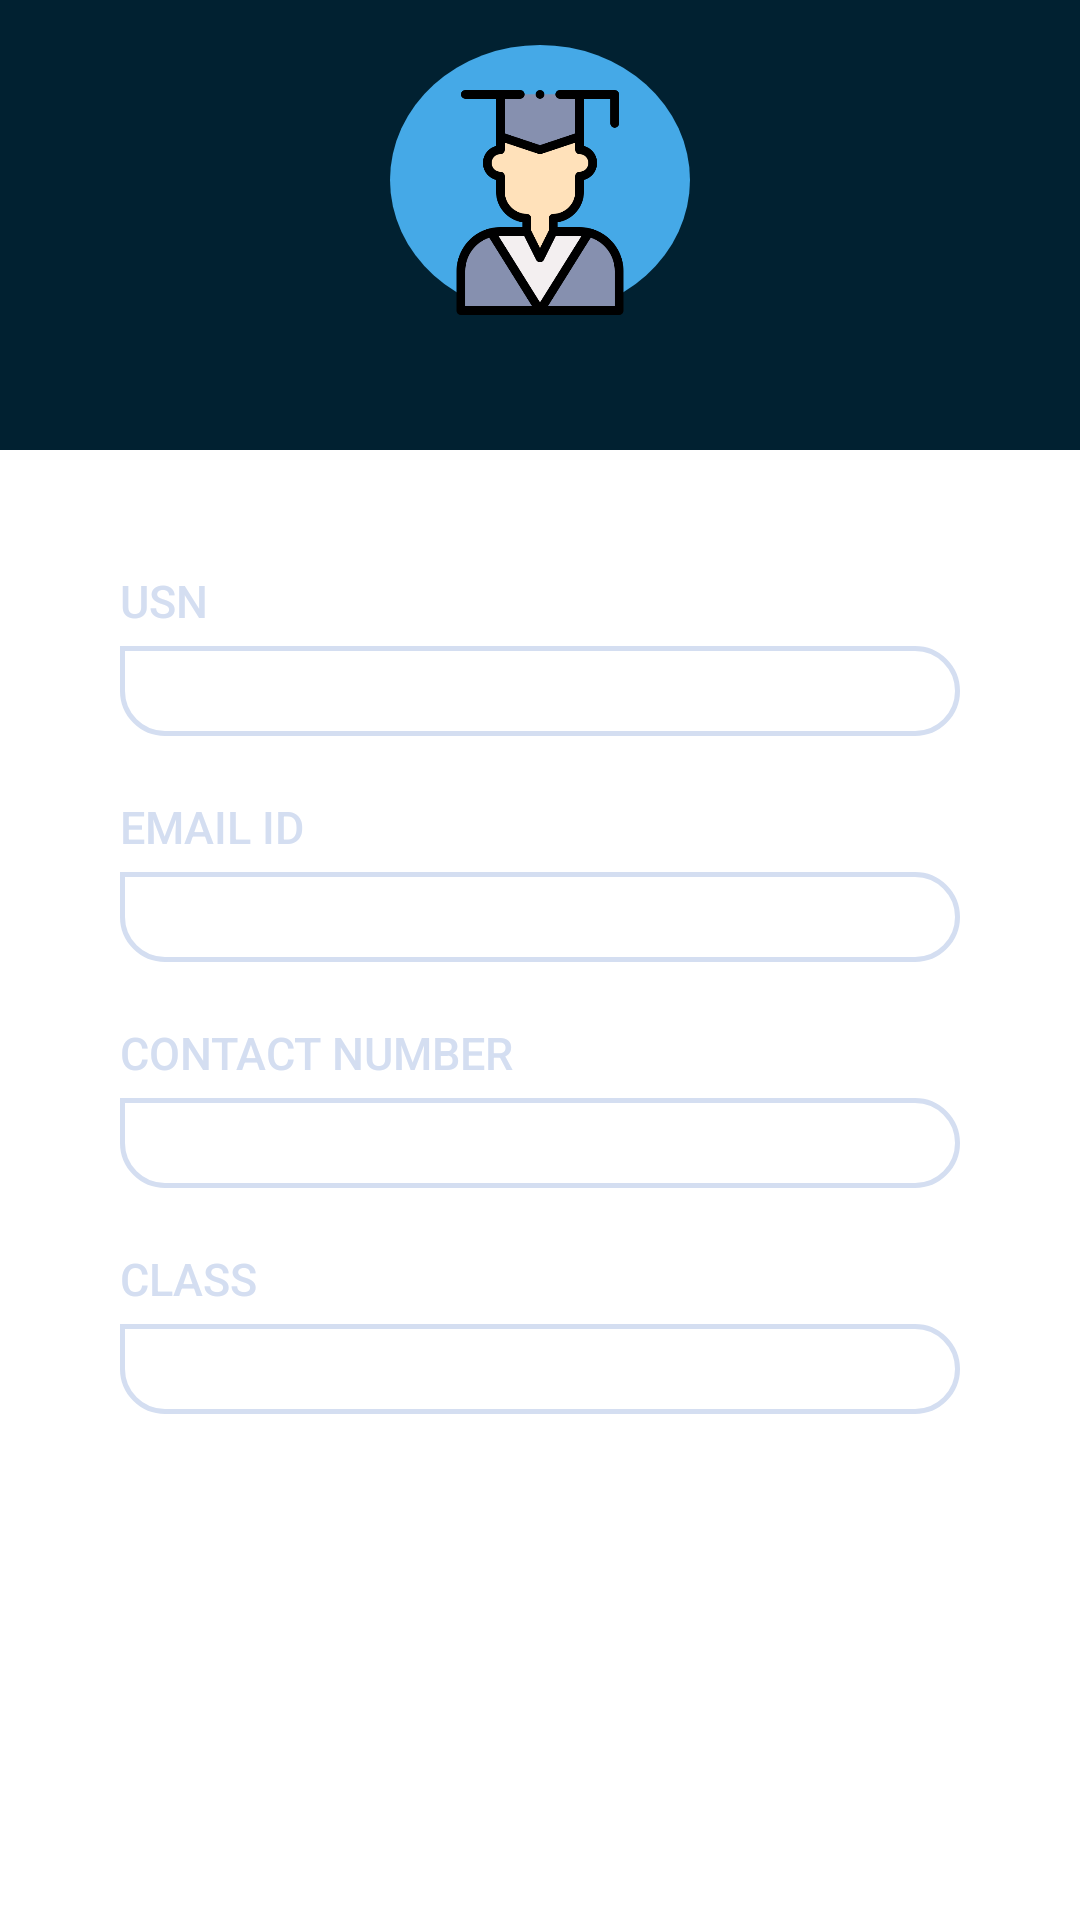

Screen size 1080px x 1920px. Icon name, then its center in pixels as point (x, y):
profile: point (540, 202)
